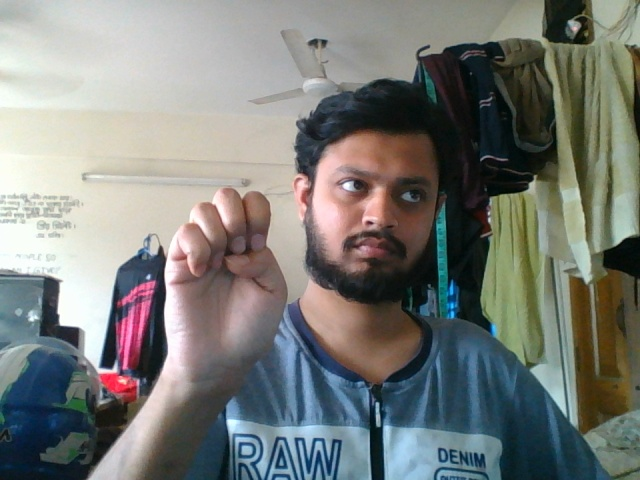sha: (161, 181, 296, 417)
